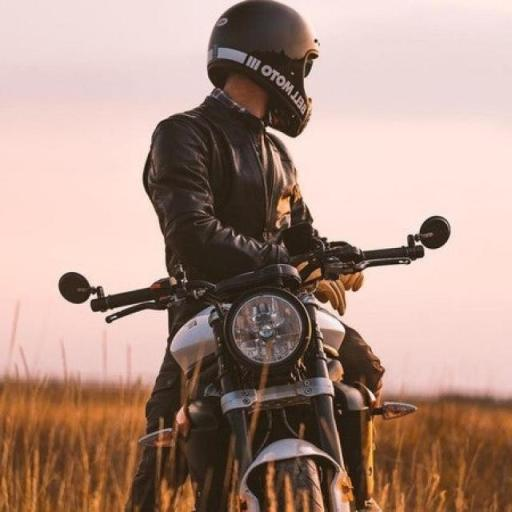Helmet: (208, 0, 319, 136)
Motor: (60, 216, 449, 511)
